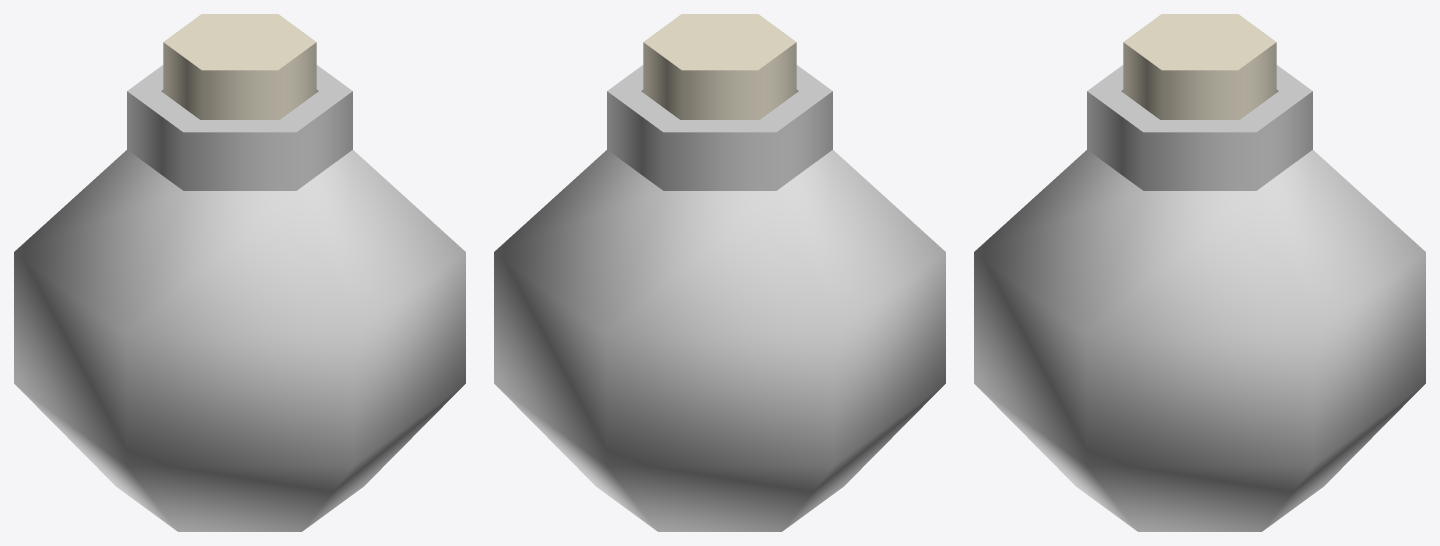
The model's file is Vial_4.fbx.
The picture shows the model from 3 angles, left to right: view 1: azimuth 30°, elevation 25°; view 2: azimuth 150°, elevation 25°; view 3: azimuth 270°, elevation 25°; orthographic projection.
Parts seen in each view (by area): view 1: ManaBomb; view 2: ManaBomb; view 3: ManaBomb.
Part boxes in pixels (x1,y1,x2,y2): ManaBomb: (14,14,465,531); ManaBomb: (494,14,945,531); ManaBomb: (974,14,1425,531).
Size of the model in its own units: 10.91 by 13.68 by 12.6.
